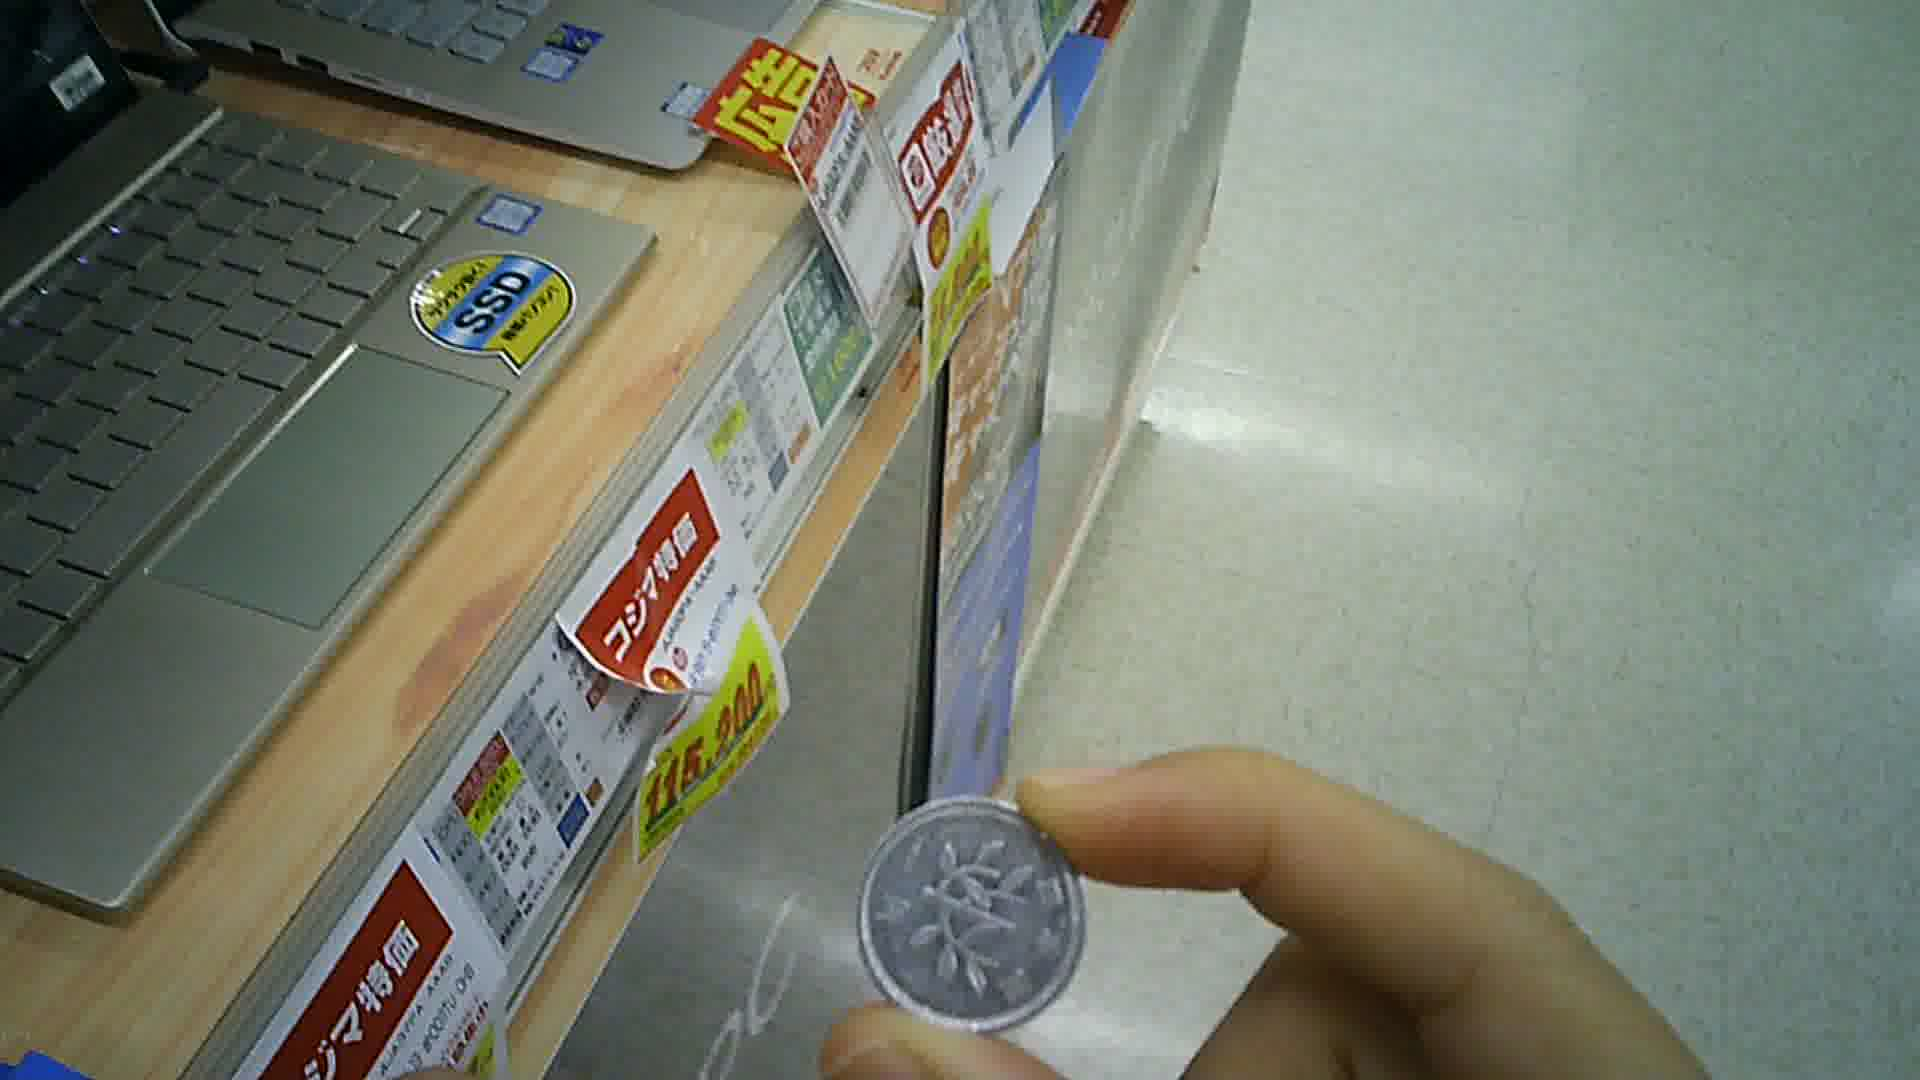1 Yen: (847, 791, 1098, 1038)
